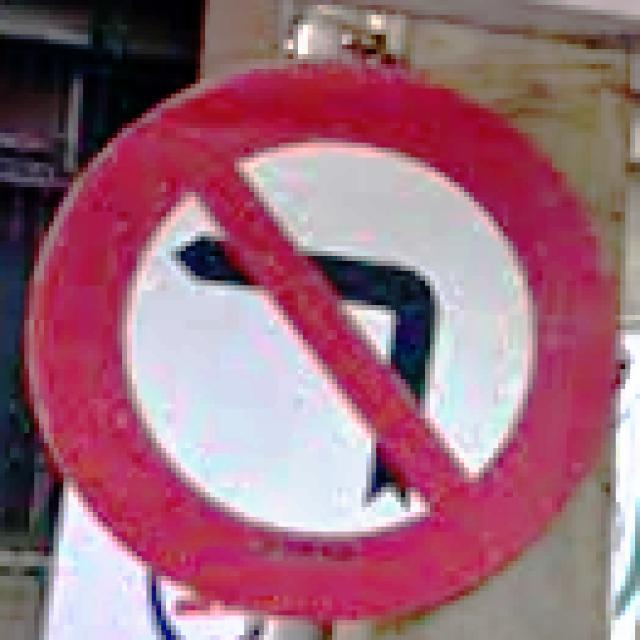noturnleft: (19, 49, 620, 620)
